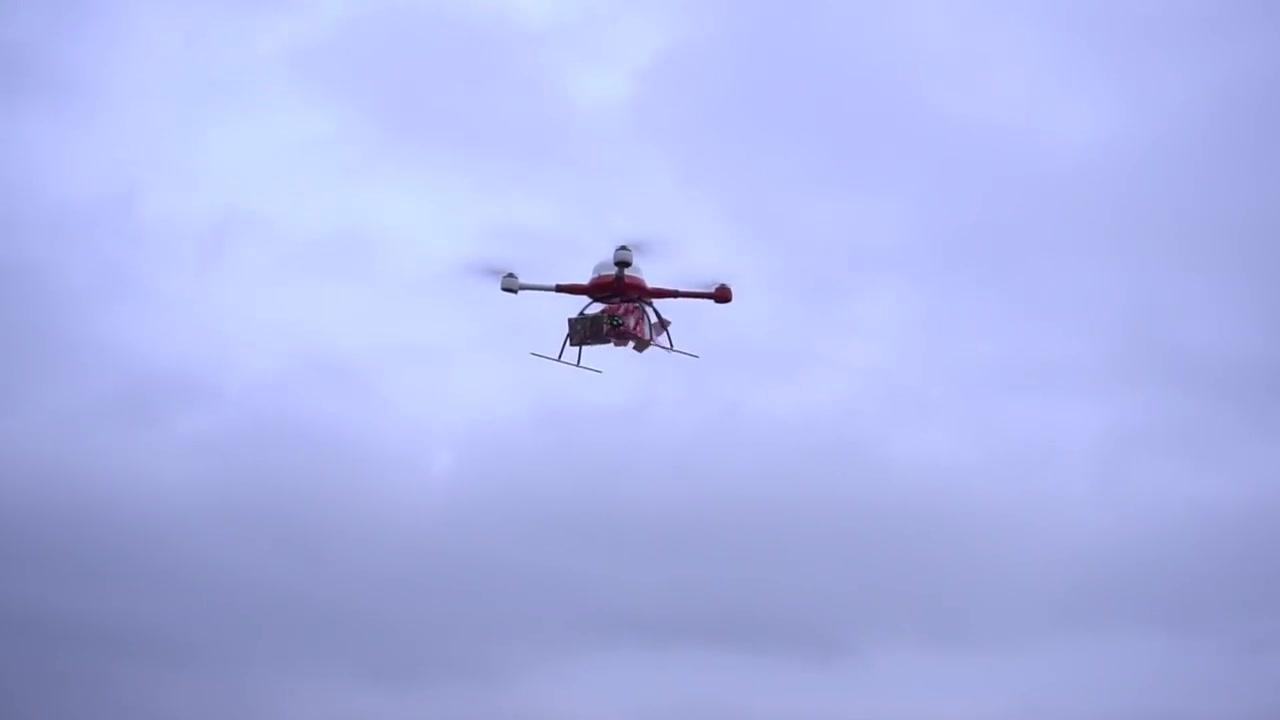UAV: (490, 241, 734, 375)
